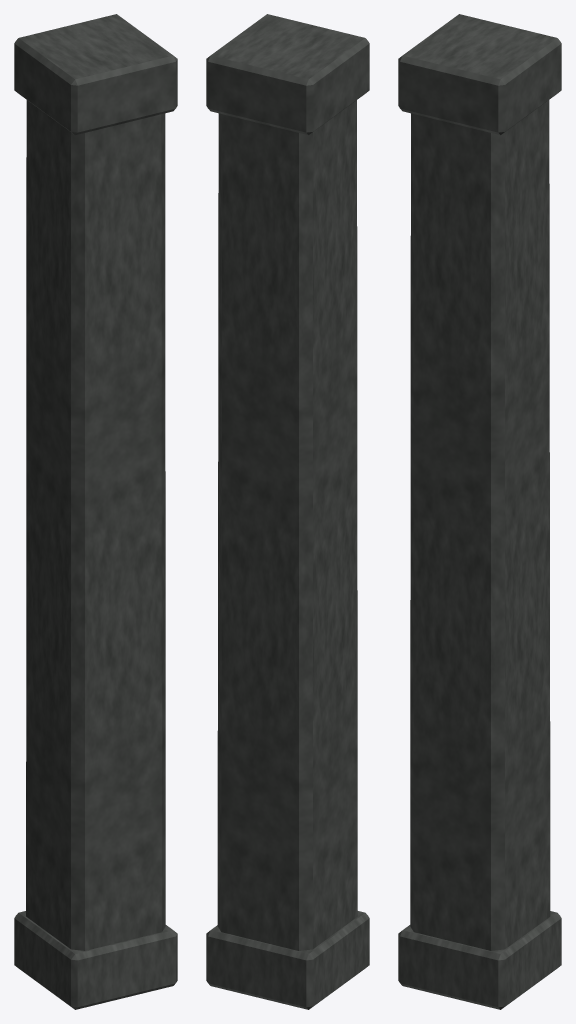
File: post_cave.glb
The picture shows the model from 3 angles, left to right: view 1: azimuth 30°, elevation 25°; view 2: azimuth 150°, elevation 25°; view 3: azimuth 330°, elevation 25°; orthographic projection.
Parts seen in each view (by area): view 1: post_cave; view 2: post_cave; view 3: post_cave.
Boxes of the visible parts, bbox=[...] form: post_cave: bbox=[14, 14, 177, 1009]; post_cave: bbox=[206, 14, 369, 1009]; post_cave: bbox=[398, 14, 561, 1009].
Bounding box in the file's own units: 0.3 × 2.5 × 0.3.
1 material, 1 textured.
